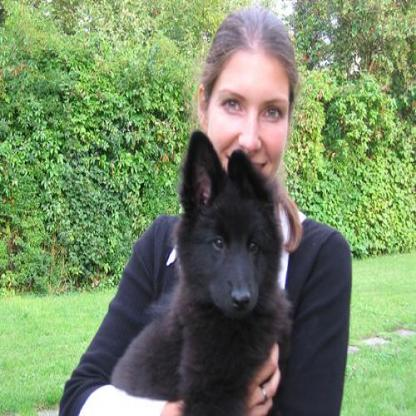groenendael: (107, 134, 300, 413)
